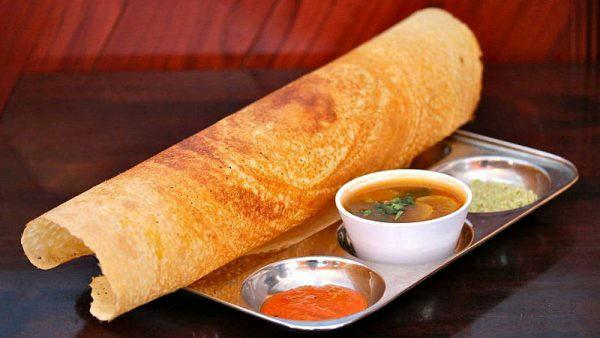CoconutChutney: (466, 178, 537, 213)
Dosa: (21, 8, 485, 321)
